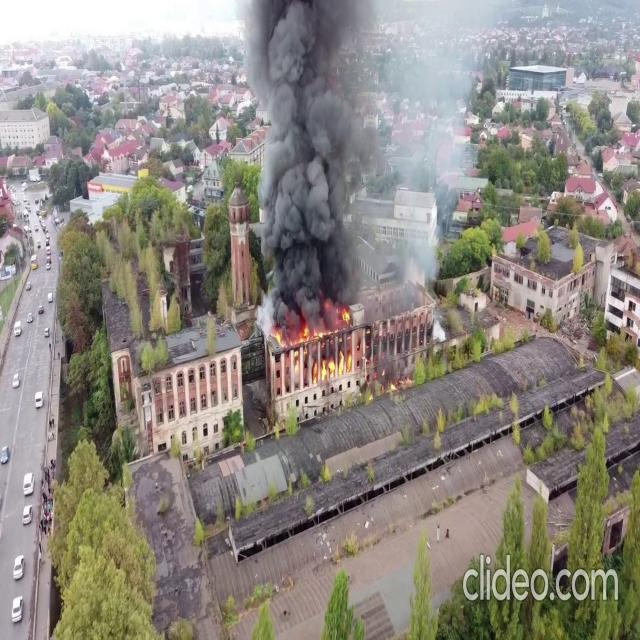Fire: (274, 316, 356, 368)
Smoke: (248, 0, 384, 329)
